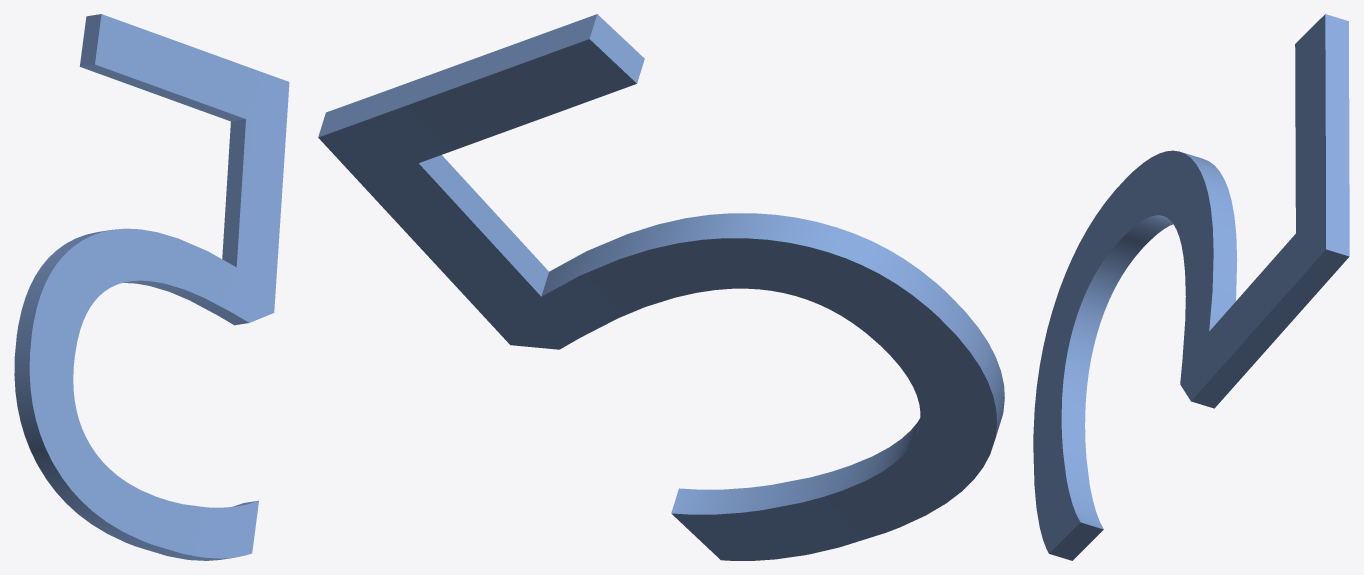
The model's file is New_Number_5.gltf.
The picture shows the model from 3 angles, left to right: view 1: azimuth 30°, elevation 25°; view 2: azimuth 150°, elevation 25°; view 3: azimuth 270°, elevation 25°; orthographic projection. The views are drawn at different scales.
Parts seen in each view (by area): view 1: Part 536; view 2: Part 536; view 3: Part 536.
Part boxes in pixels (box(x1,y1,x2,y2)): Part 536: box(14, 14, 289, 560); Part 536: box(318, 14, 1004, 560); Part 536: box(1033, 14, 1349, 560).
Bounding box in the file's own units: 0.0046 × 0.0056 × 0.00301.
